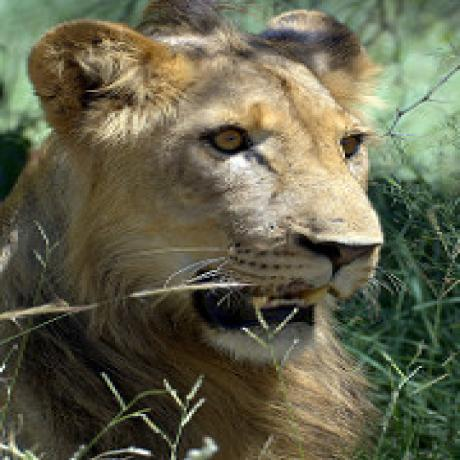Lion: (3, 6, 396, 460)
